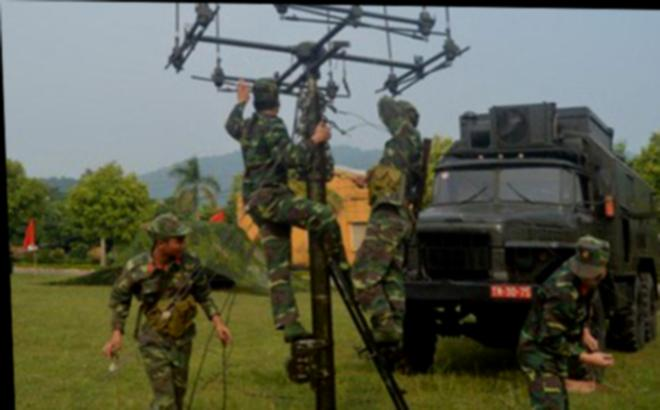License_Plate: (491, 285, 534, 300)
